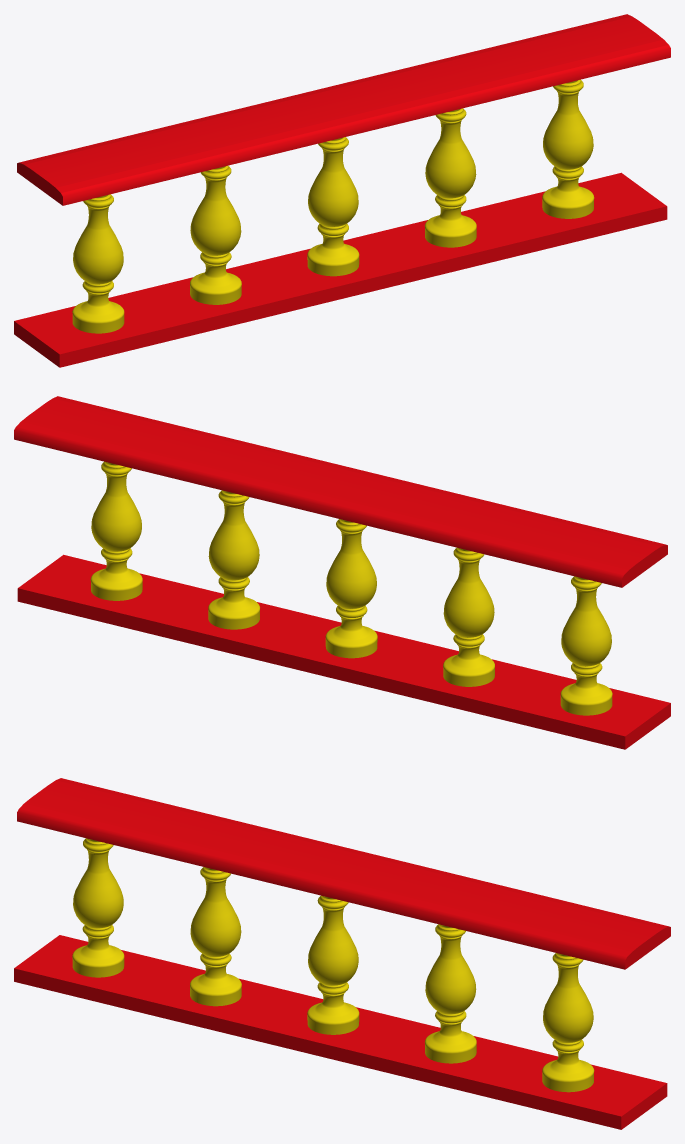
Rendered from Rembarde5.fbx.
The picture shows the model from 3 angles, top to bottom: view 1: azimuth 30°, elevation 25°; view 2: azimuth 150°, elevation 25°; view 3: azimuth 330°, elevation 25°; orthographic projection.
Parts seen in each view (by area): view 1: 5; view 2: 5; view 3: 5.
Part boxes in pixels (left/top/right/bottom): 5: left=14, top=14, right=670, bottom=367; 5: left=14, top=396, right=670, bottom=749; 5: left=14, top=778, right=670, bottom=1129.
Bounding box in the file's own units: 257 × 71.27 × 33.28.
